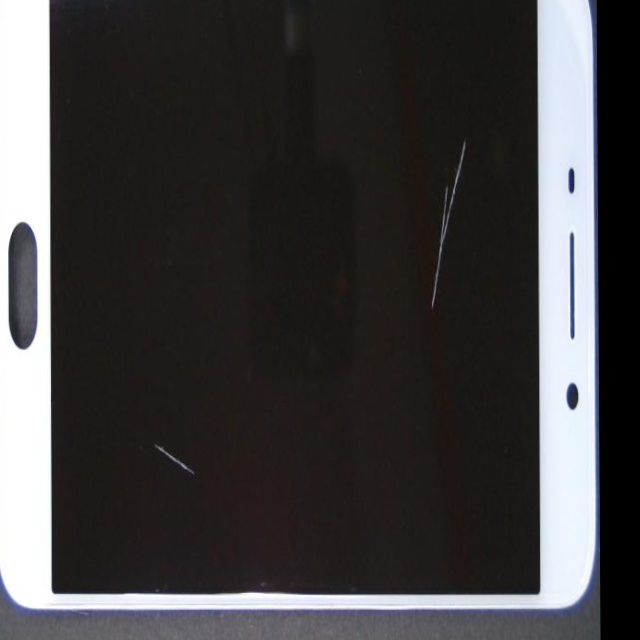scratch: (229, 98, 599, 317), (116, 217, 288, 640)
